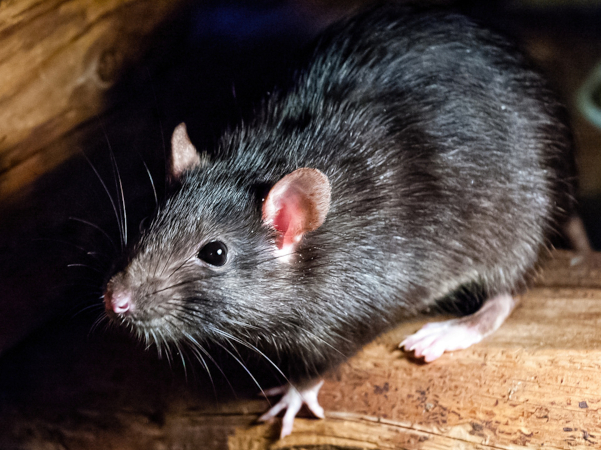rat: (57, 11, 573, 440)
